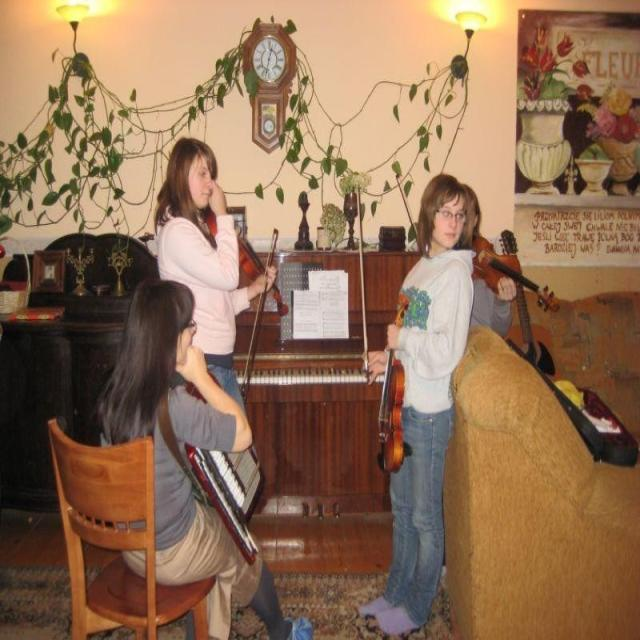violin: (206, 212, 288, 318), (377, 292, 413, 472)
